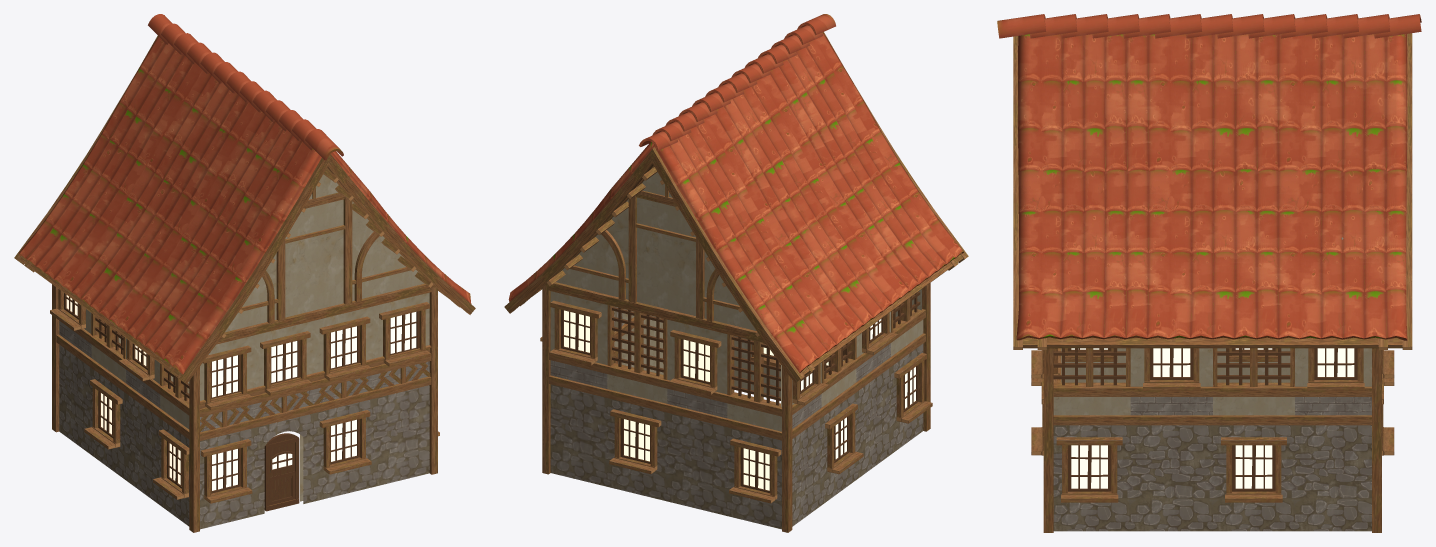
The model's file is kit-tavern.glb.
3 renders of one model, left to right at view 1: azimuth 30°, elevation 25°; view 2: azimuth 150°, elevation 25°; view 3: azimuth 270°, elevation 25°, orthographic. The views are drawn at different scales.
Parts seen in each view (by area): view 1: house; view 2: house; view 3: house.
Part boxes in pixels (x1,y1,x2,y2): house: [14, 14, 475, 532]; house: [504, 14, 968, 532]; house: [997, 14, 1421, 532].
Size of the model in its own units: 9.95 by 12 by 10.33.
6 materials, 5 textured.
